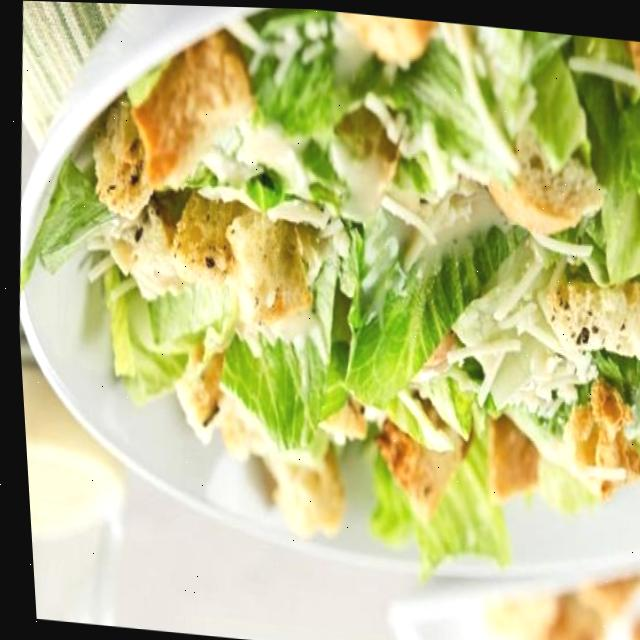蔬菜料理: (0, 0, 640, 631)
